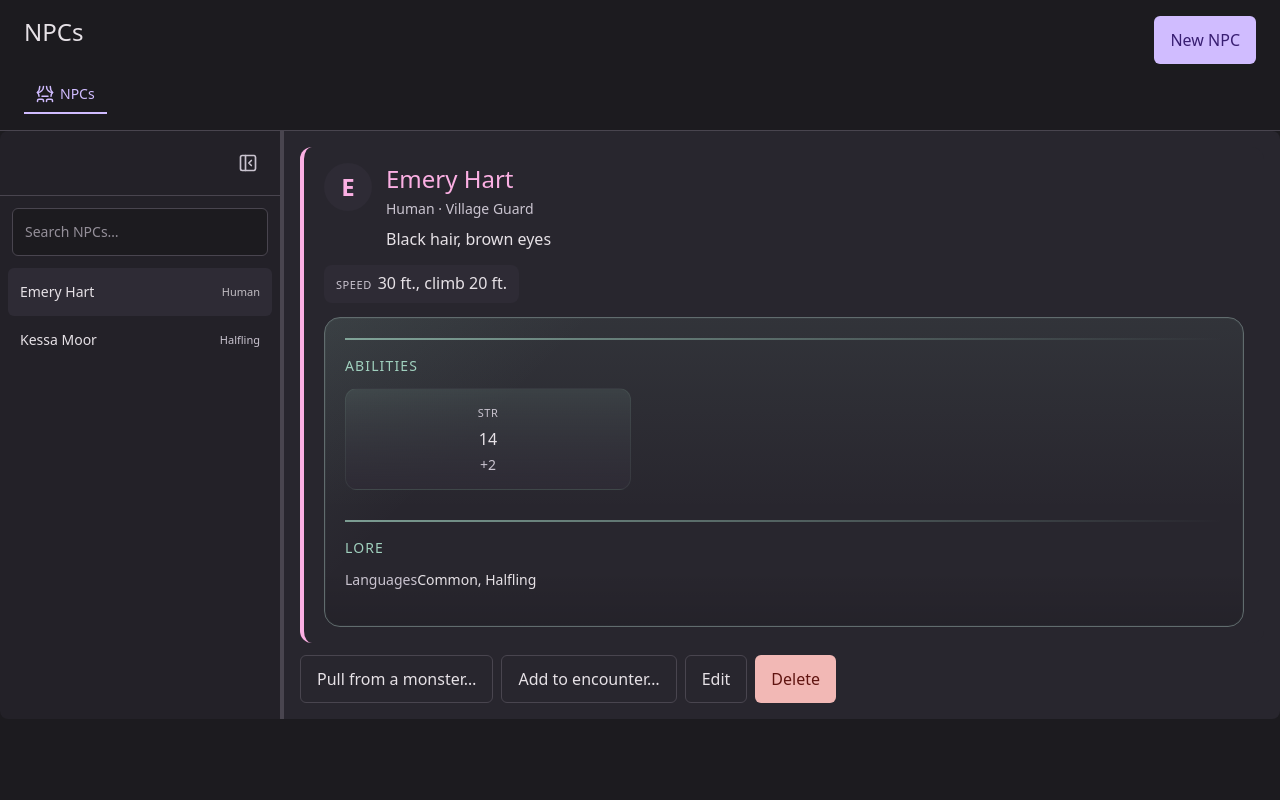
Test: NPCBrowserPage › opens the editor when New NPC is clicked
expect the heading "Emery Hart" is shown: met, box [386,162,514,195]
Step 1. Click the button "New NPC" → click(1205, 40), box [1154,16,1256,64]
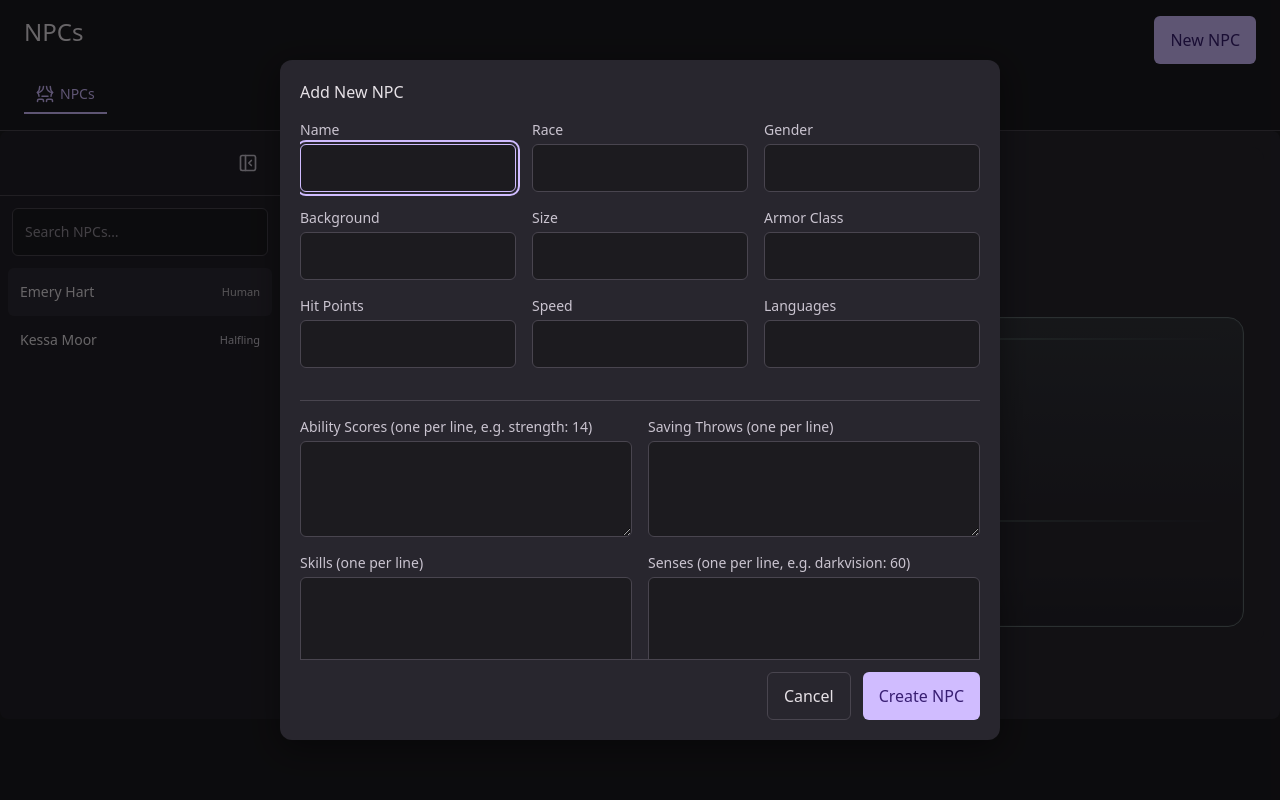
expect the dialog "Add New NPC" is shown: met, box [280,60,1000,740]
